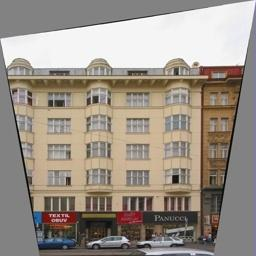building: (5, 57, 202, 242)
